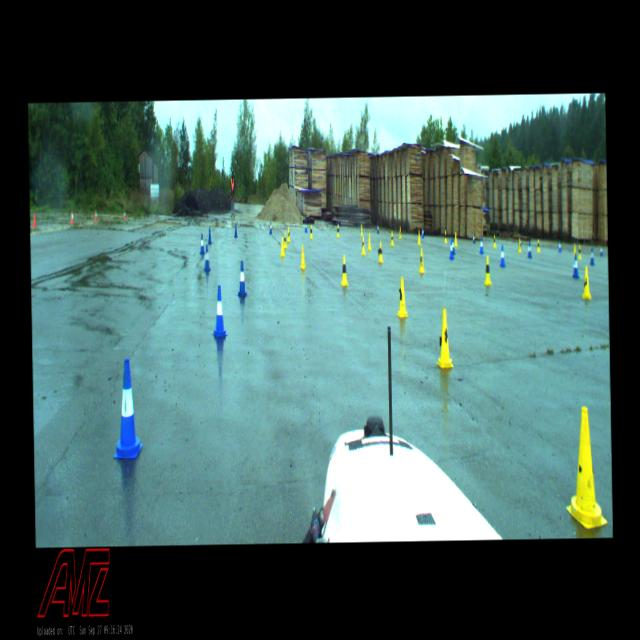blue_cone: (110, 356, 142, 461), (211, 284, 227, 338), (236, 260, 248, 298), (572, 252, 579, 280), (203, 244, 210, 272), (500, 244, 506, 268), (199, 232, 204, 255), (449, 238, 454, 259), (527, 240, 532, 259), (207, 226, 212, 244), (479, 235, 483, 254), (590, 247, 594, 265), (234, 222, 238, 238), (557, 238, 561, 252), (599, 244, 603, 256), (269, 220, 272, 234), (452, 234, 454, 254), (304, 219, 307, 232), (421, 225, 424, 238), (472, 232, 475, 244), (338, 219, 340, 232), (376, 222, 378, 234)
orange_cone: (31, 211, 36, 227), (122, 209, 126, 220), (70, 210, 73, 223), (94, 208, 97, 220)
yellow_cone: (564, 406, 607, 530), (435, 308, 454, 368), (395, 275, 408, 317), (581, 265, 591, 299), (482, 254, 492, 285), (339, 253, 348, 286), (298, 244, 306, 270), (418, 247, 425, 273), (378, 240, 383, 263), (360, 236, 365, 254), (280, 235, 284, 256), (389, 230, 394, 246), (416, 229, 421, 245), (453, 231, 458, 246), (517, 236, 521, 254), (367, 232, 371, 250), (283, 230, 287, 248), (536, 237, 540, 253), (286, 226, 290, 242), (309, 223, 313, 239), (492, 234, 496, 248), (398, 225, 402, 239), (336, 223, 340, 237), (578, 243, 581, 259), (573, 242, 576, 256), (444, 230, 447, 243), (360, 224, 362, 236)
